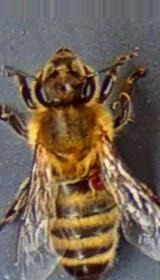varroa_mite: (76, 159, 116, 196)
